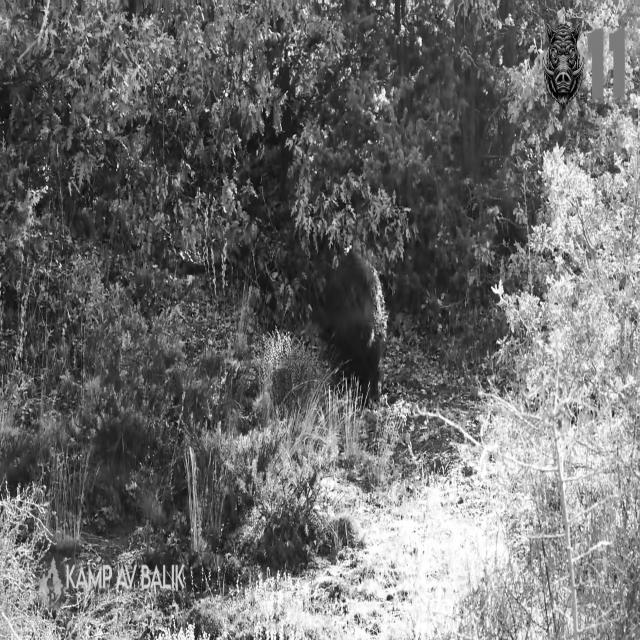boar: (323, 251, 386, 399)
